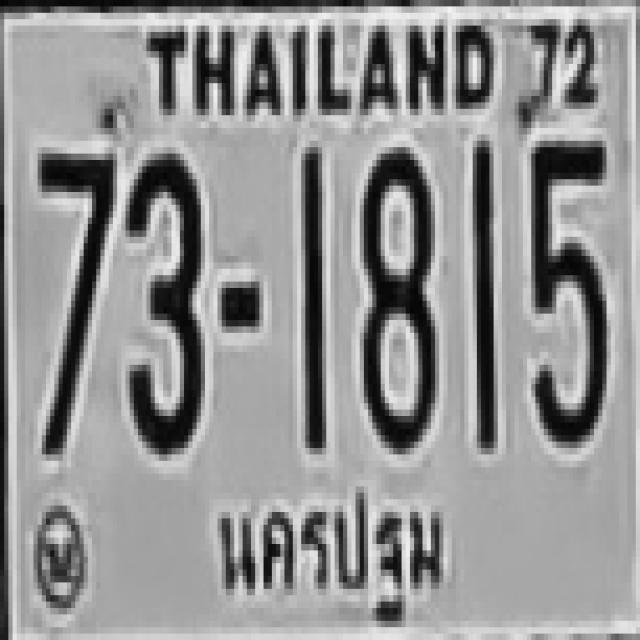1: (468, 138, 494, 444), (297, 147, 322, 442)
3: (125, 147, 201, 448)
5: (527, 134, 602, 442)
7: (33, 147, 113, 448), (33, 148, 113, 358)
8: (360, 141, 431, 448)
NakhonPathom: (209, 473, 447, 629)
